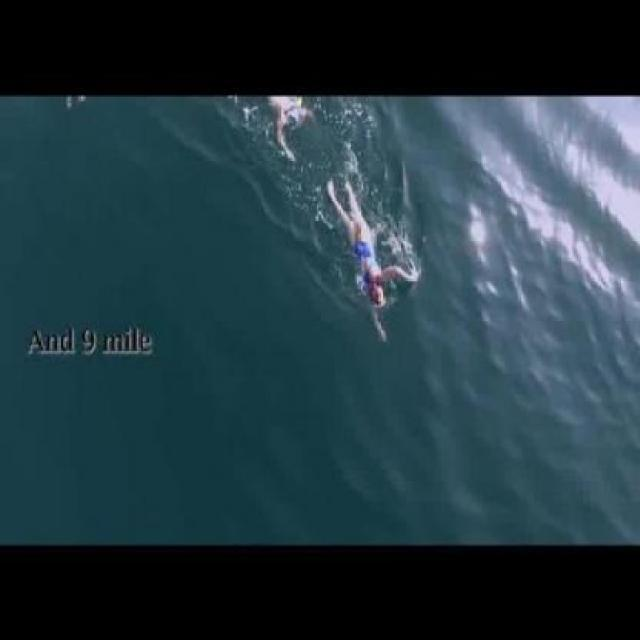swimming: (317, 172, 426, 339)
